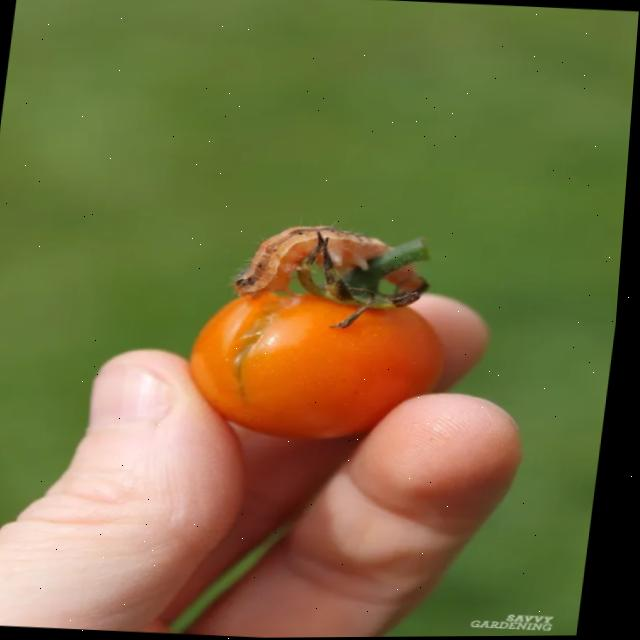damaged: (180, 262, 463, 452)
